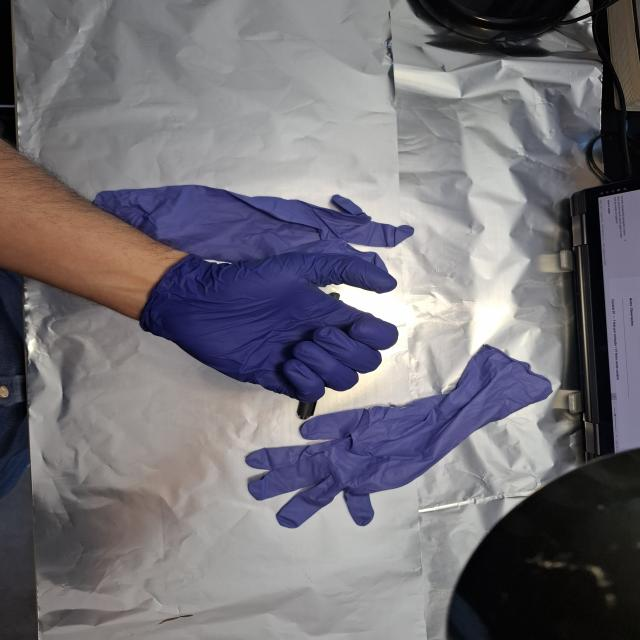glove_on: (138, 250, 404, 406)
